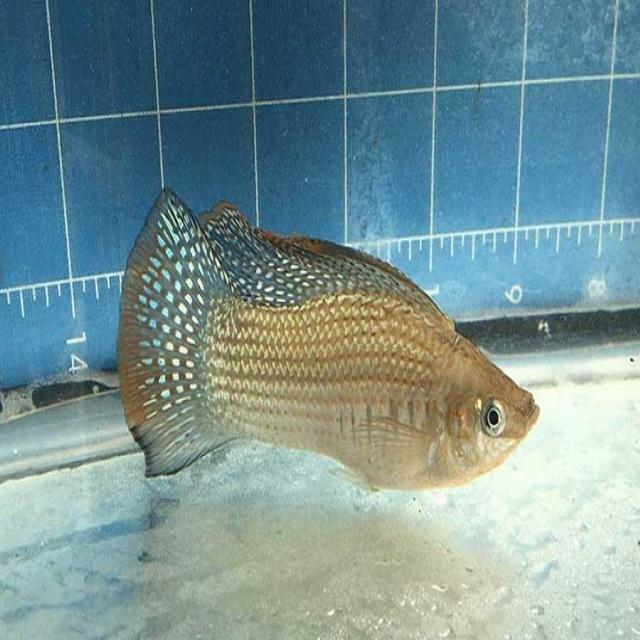PlatyFish: (106, 169, 550, 528)
